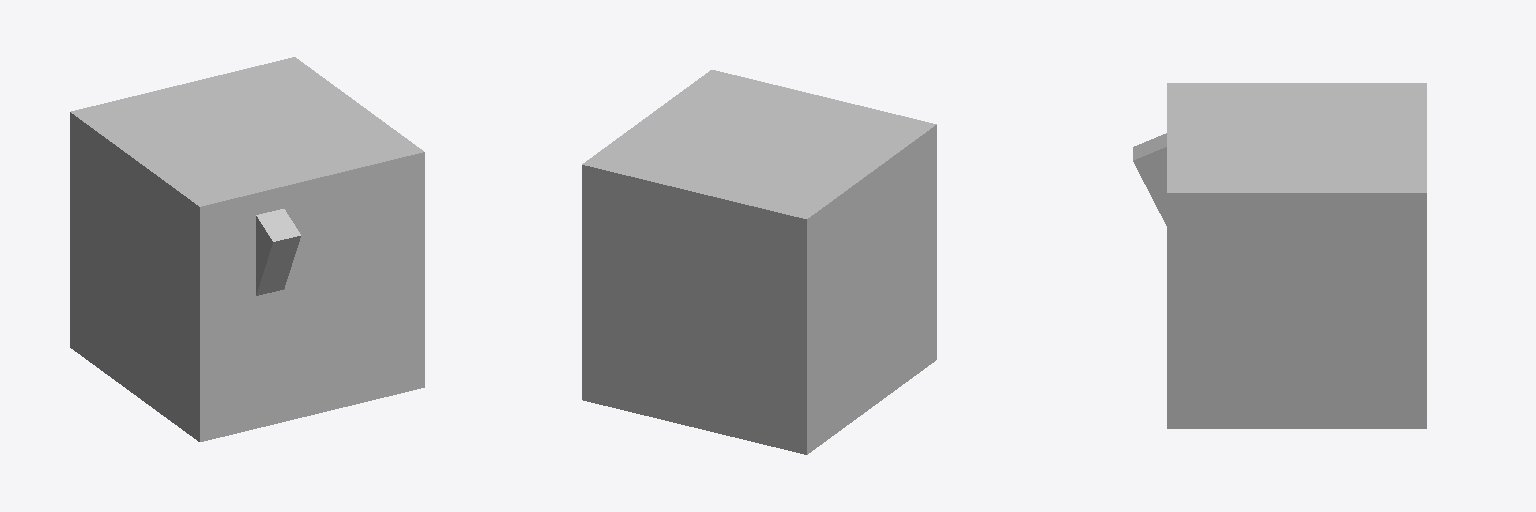
Rendered from bookshelf_on_model.obj.
3 views of the same model, side by side, from view 1: azimuth 30°, elevation 25°; view 2: azimuth 150°, elevation 25°; view 3: azimuth 270°, elevation 25° (orthographic).
Parts seen in each view (by area): view 1: bookshelf_on_Cube; view 2: bookshelf_on_Cube; view 3: bookshelf_on_Cube.
Part boxes in pixels (x1,y1,x2,y2): bookshelf_on_Cube: (70, 57, 424, 441); bookshelf_on_Cube: (582, 70, 936, 454); bookshelf_on_Cube: (1133, 83, 1426, 428).
Bounding box in the file's own units: 2 × 2 × 2.27.